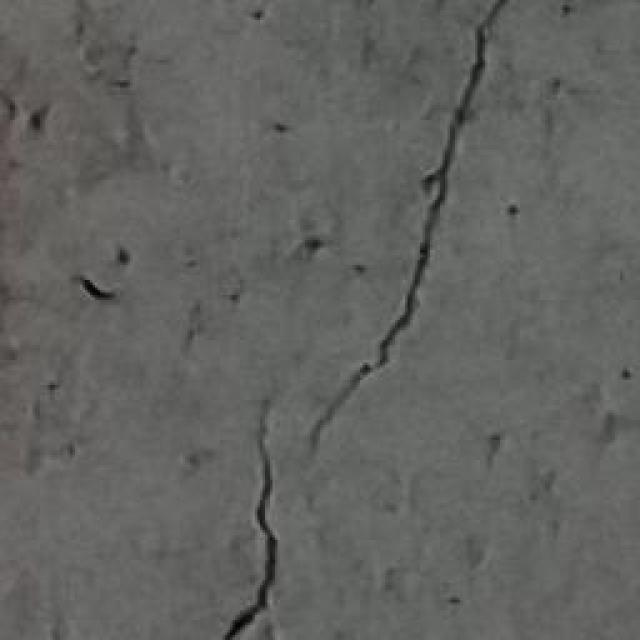Longitudinal: (222, 0, 498, 640)
